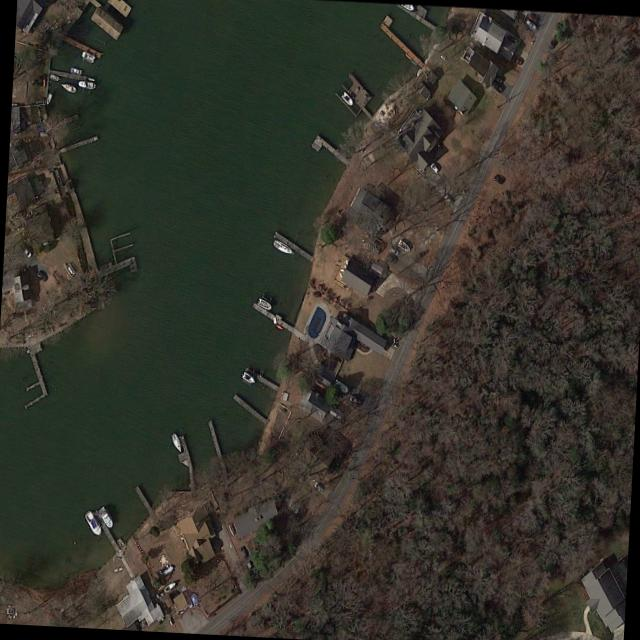large-vehicle: (17, 242, 31, 258)
ship: (82, 509, 104, 540), (271, 238, 294, 257), (97, 505, 114, 529), (169, 433, 182, 454), (59, 81, 76, 95), (339, 91, 353, 108), (256, 297, 271, 311), (79, 50, 95, 63), (397, 239, 410, 253), (77, 80, 95, 90), (241, 372, 255, 384), (162, 581, 176, 593), (68, 67, 81, 75), (48, 74, 59, 82), (45, 93, 51, 105)
small-vehicle: (346, 395, 362, 407), (523, 18, 537, 31), (490, 81, 504, 94), (527, 12, 540, 24), (287, 502, 299, 515), (428, 163, 440, 175), (384, 254, 397, 265), (509, 56, 523, 66), (492, 175, 504, 186), (312, 482, 324, 493), (35, 271, 47, 282), (238, 546, 247, 560), (443, 194, 454, 205), (387, 246, 399, 256), (493, 74, 503, 85)
